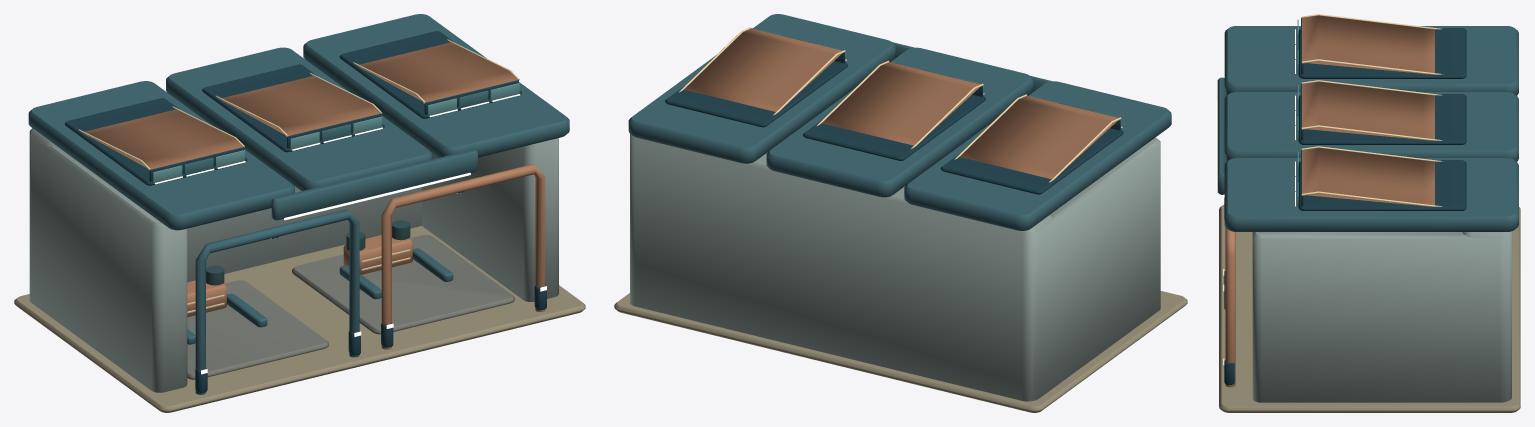
The model's file is harbor_truck_service.glb.
3 views of the same model, side by side, from view 1: azimuth 30°, elevation 25°; view 2: azimuth 150°, elevation 25°; view 3: azimuth 270°, elevation 25° (orthographic).
Visible parts, largest first — view 1: HarborTruckService; view 2: HarborTruckService; view 3: HarborTruckService.
Part boxes in pixels (bbox=[...]): HarborTruckService: bbox=[14, 14, 585, 412]; HarborTruckService: bbox=[614, 14, 1187, 412]; HarborTruckService: bbox=[1216, 14, 1520, 412].
Bounding box in the file's own units: 10.98 × 5.2 × 6.88.
